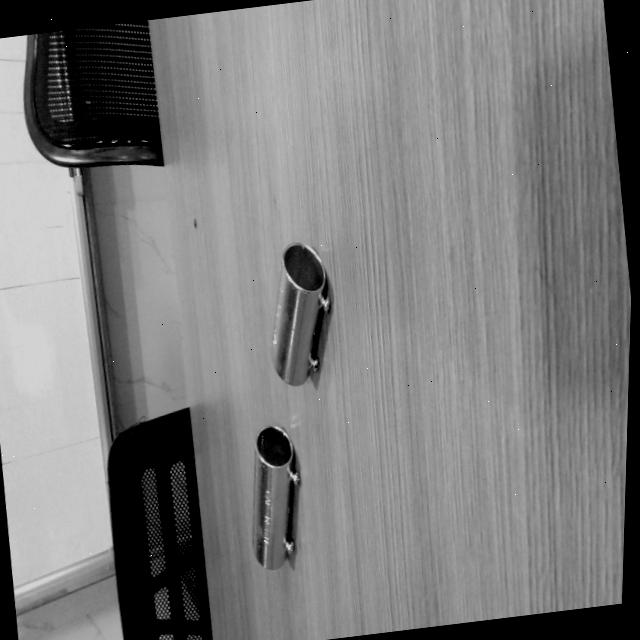Co_Lon: (248, 424, 301, 569)
Co_Nho: (266, 240, 337, 387)
